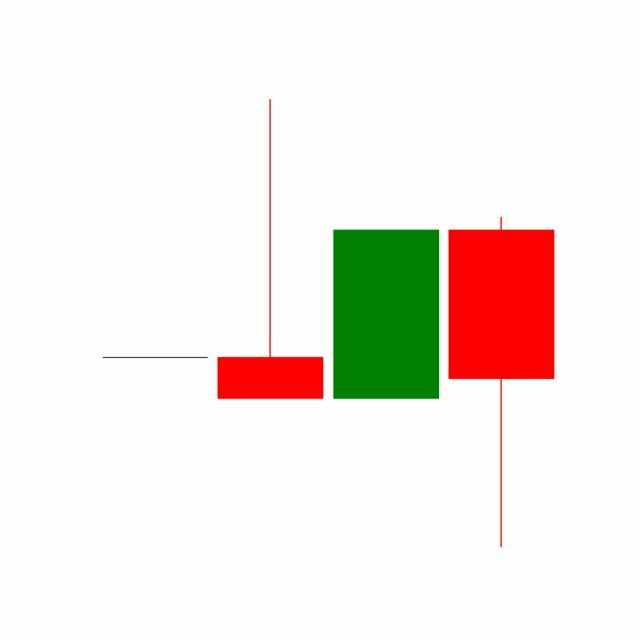Hammer: (444, 214, 560, 552)
